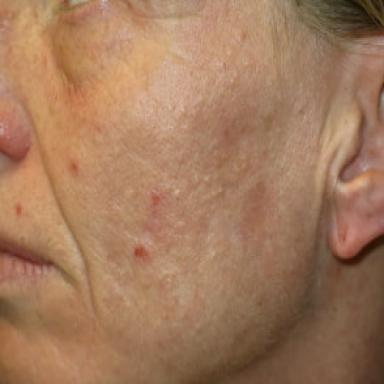acne: (134, 245, 149, 258), (70, 161, 79, 176), (151, 193, 161, 206), (14, 203, 22, 215)
